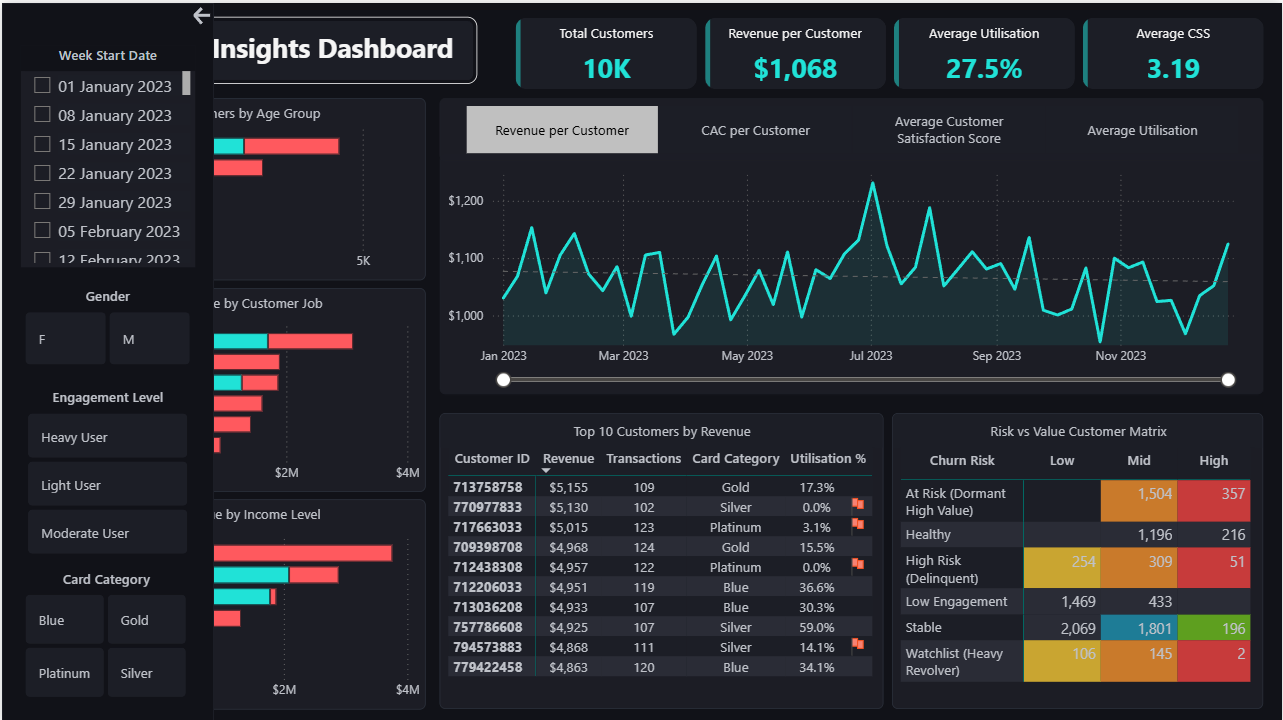

What the dashboard file says about the page in this screenshot:
{"tool":"powerbi","page":{"name":"Customer Insights","canvas":[1280,720],"ordinal":1},"visuals":[{"type":"shape","box":[0,0,47.1,720],"z":0},{"type":"shape","box":[62.1,13.6,412.7,67.5],"z":0,"group":"g1"},{"type":"lineChart","fields":{"Category":["Calender_Table.Week_Start_Date"],"Y":["Measures Table.Revenue per Customer"]},"box":[437.5,151.1,823.8,240.2],"z":0,"group":"g2"},{"type":"group","id":"g1","title":"Title","box":[62.1,13.6,412.9,68.6],"z":1000},{"type":"textbox","box":[62.6,20.6,408.1,60],"z":1000,"group":"g1"},{"type":"slicer","title":"Customer Metric Selection","fields":{"Values":["Customer Metric Selection.Customer Metric Selection"]},"box":[437.5,95,823.8,63.4],"z":1000,"group":"g2"},{"type":"cardVisual","fields":{"Data":["Measures Table.Total Customers","Measures Table.Revenue per Customer","Measures Table.Average Utilisation","Measures Table.Average Customer Satisfaction Score"]},"box":[508.8,10,761.2,81.2],"z":2000},{"type":"barChart","title":"Customers by Age Group","fields":{"Category":["ccdb customer.AgeGroup"],"Series":["ccdb customer.Gender"],"Y":["Measures Table.Total Customers"]},"box":[63.8,95,360,182.5],"z":3000},{"type":"barChart","title":"Revenue by Customer Job","fields":{"Category":["ccdb customer.Customer_Job"],"Series":["ccdb customer.Gender"],"Y":["Measures Table.Total Revenue"]},"box":[63.8,285,360,203.8],"z":4000},{"type":"group","id":"g2","title":"Customer Metric Chart","box":[437.5,95,823.8,296.2],"z":5000},{"type":"pivotTable","title":"Top 10 Customers by Revenue","fields":{"Rows":["ccdb customer.Client_Num"],"Values":["Measures Table.Total Revenue","Measures Table.Total Transactions","Min(ccdb credit_card.Card_Category)","Measures Table.Average Utilisation"]},"box":[437.5,410,443.8,296.2],"z":6000},{"type":"barChart","title":"Revenue by Income Level","fields":{"Category":["ccdb customer.IncomeGroup"],"Series":["ccdb customer.Gender"],"Y":["Measures Table.Total Revenue"]},"box":[63.8,496.2,360,210],"z":7000},{"type":"pivotTable","title":"Risk vs Value Customer Matrix","fields":{"Columns":["ccdb credit_card.Profotability Tier"],"Rows":["ccdb credit_card.Churn Risk"],"Values":["Measures Table.Total Customers"]},"box":[890,410,371.4,295.7],"z":8000},{"type":"actionButton","box":[1.4,0,47.1,40],"z":9000},{"type":"actionButton","box":[3.7,44.2,45.4,39.3],"z":10000},{"type":"actionButton","box":[2.5,542.6,44.8,38.6],"z":12000},{"type":"actionButton","box":[2.5,602.4,44.8,38.6],"z":13000},{"type":"actionButton","box":[2.5,662.1,44.8,38.6],"z":14000}]}

Visuals, with their boxes in screenshot pixels (x1, y1, x2, y2), scaled from the page's 1280x720 canvas onto the 1283x720 screenshot:
shape: box(0, 0, 47, 719)
shape: box(62, 14, 476, 81)
lineChart - Calender_Table.Week_Start_Date x Measures Table.Revenue per Customer: box(439, 151, 1264, 391)
"Title" group: box(62, 14, 476, 82)
textbox: box(63, 21, 472, 81)
"Customer Metric Selection" slicer: box(439, 95, 1264, 158)
cardVisual - Measures Table.Total Customers x Measures Table.Revenue per Customer: box(510, 10, 1273, 91)
"Customers by Age Group" barChart: box(64, 95, 425, 278)
"Revenue by Customer Job" barChart: box(64, 285, 425, 489)
"Customer Metric Chart" group: box(439, 95, 1264, 391)
"Top 10 Customers by Revenue" pivotTable: box(439, 410, 883, 706)
"Revenue by Income Level" barChart: box(64, 496, 425, 706)
"Risk vs Value Customer Matrix" pivotTable: box(892, 410, 1264, 706)
actionButton: box(1, 0, 49, 40)
actionButton: box(4, 44, 49, 84)
actionButton: box(3, 543, 47, 581)
actionButton: box(3, 602, 47, 641)
actionButton: box(3, 662, 47, 701)
